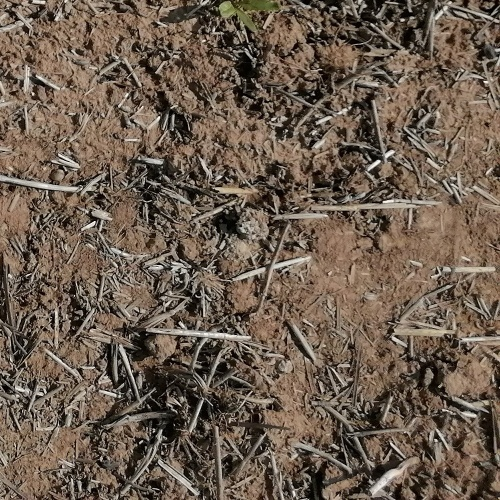beet: (219, 0, 280, 32)
